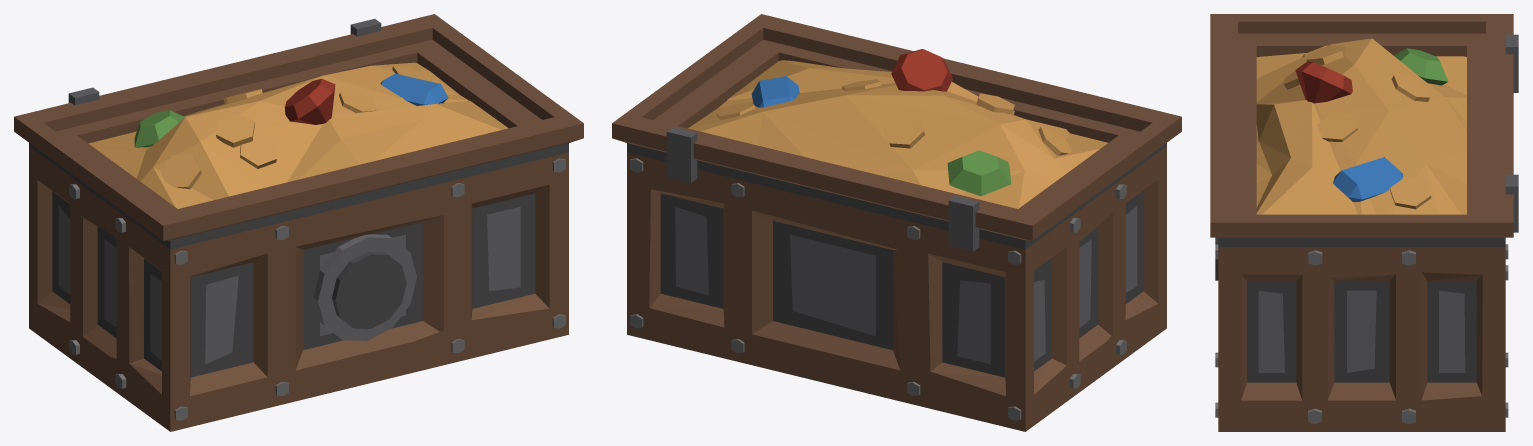
File: SM_Prop_Chest_Treasure_01.glb
3 views of the same model, side by side, from view 1: azimuth 30°, elevation 25°; view 2: azimuth 150°, elevation 25°; view 3: azimuth 270°, elevation 25° (orthographic).
Visible parts, largest first — view 1: SM_Prop_Chest_Treasure_01_part00, SM_Prop_Chest_Treasure_01_part01; view 2: SM_Prop_Chest_Treasure_01_part00, SM_Prop_Chest_Treasure_01_part01; view 3: SM_Prop_Chest_Treasure_01_part00, SM_Prop_Chest_Treasure_01_part01.
Part boxes in pixels (bbox=[...]): SM_Prop_Chest_Treasure_01_part00: bbox=[14, 14, 583, 431]; SM_Prop_Chest_Treasure_01_part01: bbox=[88, 62, 508, 208]; SM_Prop_Chest_Treasure_01_part00: bbox=[612, 14, 1181, 431]; SM_Prop_Chest_Treasure_01_part01: bbox=[688, 49, 1107, 208]; SM_Prop_Chest_Treasure_01_part00: bbox=[1210, 14, 1518, 431]; SM_Prop_Chest_Treasure_01_part01: bbox=[1256, 38, 1466, 214].
Size of the model in its own units: 0.9736 by 0.5869 by 0.6088.
1 material, 1 textured.
